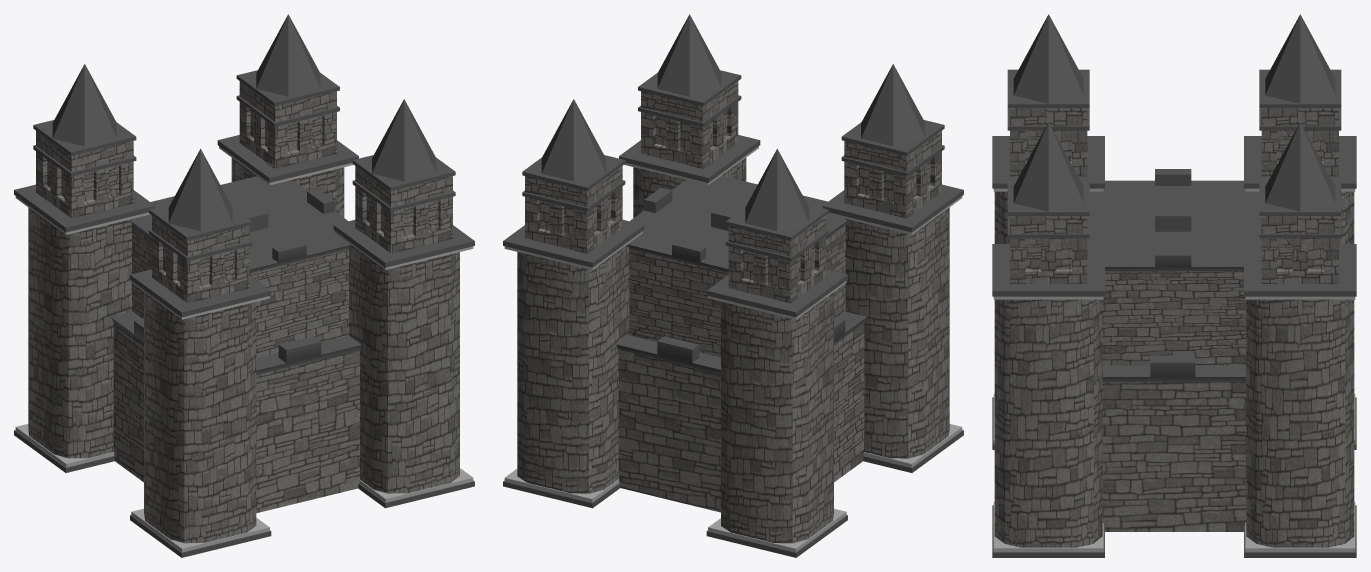
The model's file is maincastle.fbx.
3 renders of one model, left to right at view 1: azimuth 30°, elevation 25°; view 2: azimuth 150°, elevation 25°; view 3: azimuth 270°, elevation 25°, orthographic. The views are drawn at different scales.
Visible parts, largest first — view 1: pCube1 (×4), pCube2 (×4), castle_maintower:pCube1, pCone1 (×3), pCube5 (×3), castle_maintower:pCube2, pCube4 (×3), castle_maintower:pCone1, castle_maintower:pCube5, pCube3 (×3), pCube7 (×2), pCube6 (×2) (+4 smaller); view 2: pCube1 (×4), pCube2 (×4), pCone1 (×3), pCube5 (×3), castle_maintower:pCube2, pCube4 (×3), castle_maintower:pCone1, pCube7 (×3), pCube6 (×3), castle_maintower:pCube5, pCube3 (×3), castle_maintower:pCube1 (+2 smaller); view 3: pCube1 (×4), pCube2 (×4), castle_maintower:pCube1, pCone1 (×3), pCube5 (×3), castle_maintower:pCube2, castle_maintower:pCone1, pCube4 (×3), castle_maintower:pCube5, pCube3 (×3), castle_maintower:pCube4, castle_maintower:pCube7 (+4 smaller).
Part boxes in pixels (box(x1,y1,x2,y2)): pCube1 (×4): box(28, 158, 362, 543); pCube2 (×4): box(36, 81, 361, 513); castle_maintower:pCube1: box(349, 243, 459, 493); pCone1 (×3): box(52, 14, 320, 231); pCube5 (×3): box(14, 135, 358, 317); castle_maintower:pCube2: box(355, 166, 452, 253); pCube4 (×3): box(33, 70, 339, 240); castle_maintower:pCone1: box(372, 99, 436, 181); castle_maintower:pCube5: box(333, 220, 474, 267); pCube3 (×3): box(33, 95, 339, 261); pCube7 (×2): box(15, 424, 269, 552); pCube6 (×2): box(14, 430, 271, 557); pCube1 (×4): box(517, 162, 949, 543); pCube2 (×4): box(525, 131, 941, 512); pCone1 (×3): box(541, 64, 925, 231); pCube5 (×3): box(503, 184, 963, 317); castle_maintower:pCube2: box(641, 81, 738, 168); pCube4 (×3): box(522, 120, 944, 240); castle_maintower:pCone1: box(657, 14, 721, 96); pCube7 (×3): box(504, 424, 962, 552); pCube6 (×3): box(503, 430, 963, 557); castle_maintower:pCube5: box(619, 135, 760, 182); pCube3 (×3): box(522, 145, 944, 261); castle_maintower:pCube1: box(633, 158, 746, 217); pCube1 (×4): box(994, 169, 1354, 547); pCube2 (×4): box(1010, 108, 1338, 531); castle_maintower:pCube1: box(994, 299, 1102, 547); pCone1 (×3): box(1013, 14, 1335, 211); pCube5 (×3): box(992, 136, 1356, 296); castle_maintower:pCube2: box(1010, 216, 1087, 283); castle_maintower:pCone1: box(1013, 122, 1083, 211); pCube4 (×3): box(1007, 69, 1341, 215); castle_maintower:pCube5: box(992, 244, 1104, 296); pCube3 (×3): box(1007, 108, 1341, 238); castle_maintower:pCube4: box(1007, 177, 1089, 215); castle_maintower:pCube7: box(993, 501, 1103, 552).
Bounding box in the file's own units: 14.47 × 17.9 × 14.33.
